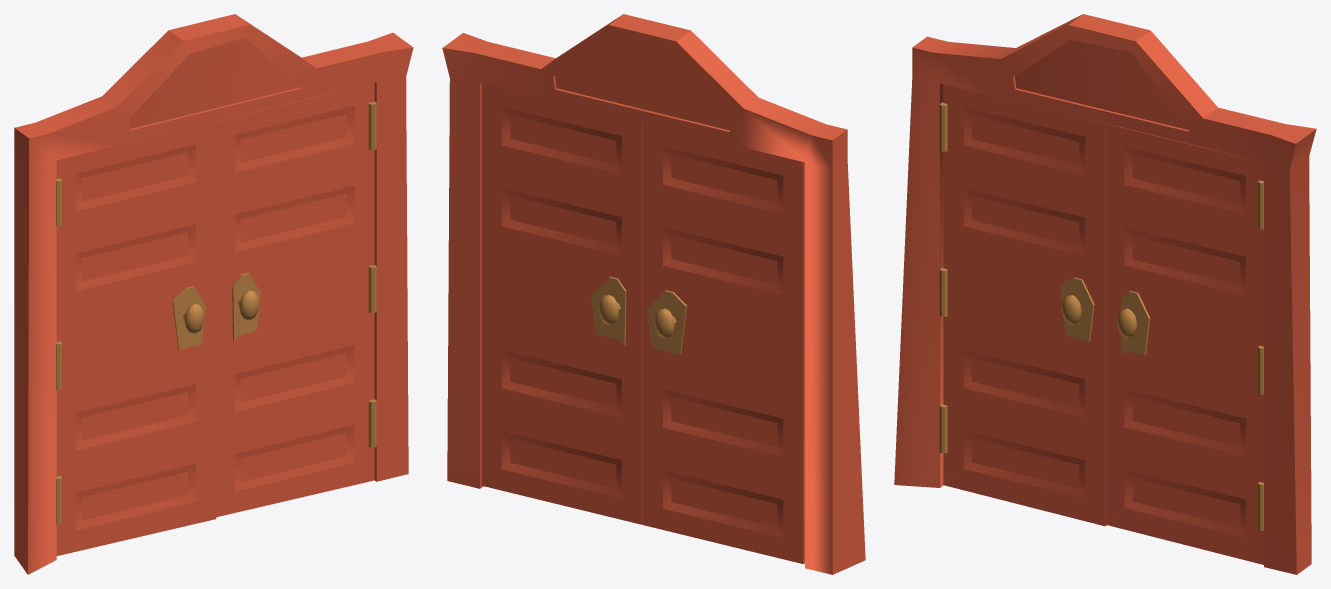
Rendered from doubleDoorFrame.fbx.
The picture shows the model from 3 angles, left to right: view 1: azimuth 30°, elevation 25°; view 2: azimuth 150°, elevation 25°; view 3: azimuth 330°, elevation 25°; orthographic projection.
Visible parts, largest first — view 1: Double Door, Double Door.001, Double Door Frame; view 2: Double Door, Double Door.001, Double Door Frame; view 3: Double Door, Double Door.001, Double Door Frame.
Part boxes in pixels (x1,y1,x2,y2): Double Door: (56,121,216,555); Double Door.001: (216,83,376,517); Double Door Frame: (14,14,413,574); Double Door: (642,123,804,564); Double Door.001: (482,83,642,524); Double Door Frame: (442,14,865,574); Double Door: (939,84,1106,526); Double Door.001: (1105,124,1263,564); Double Door Frame: (894,14,1316,574).
Bounding box in the file's own units: 391 × 52.73 × 466.
